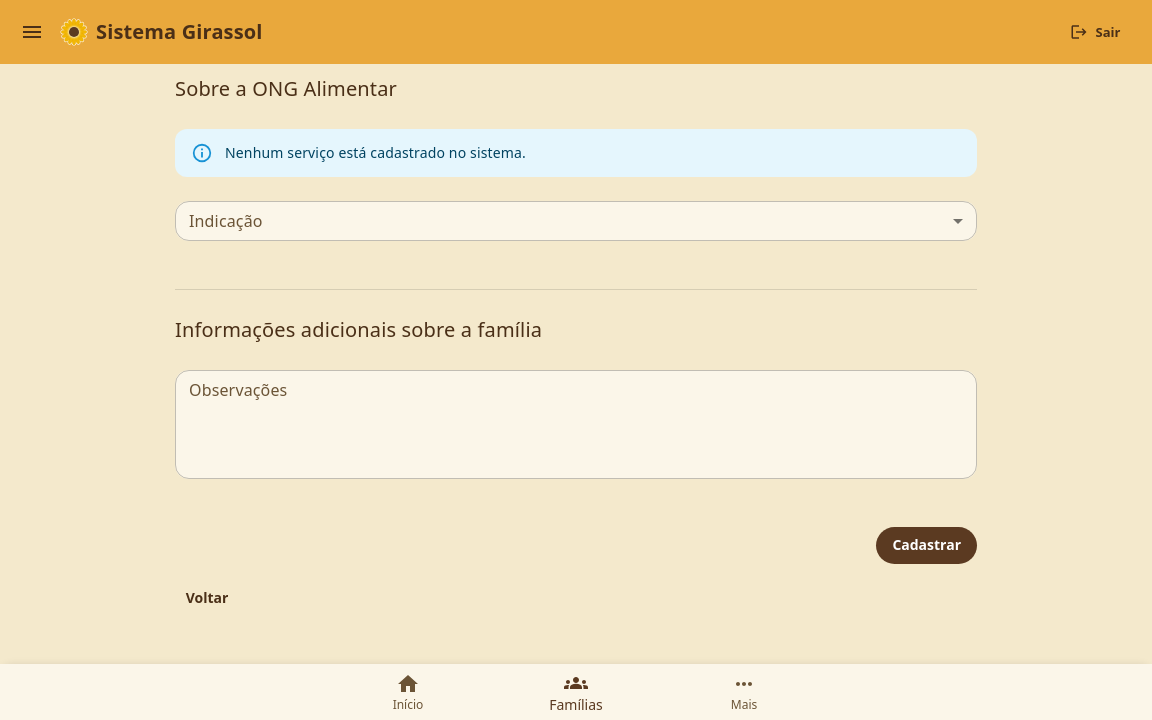
Test: CRUD de família ponta-a-ponta (#51) › cria, lê, atualiza e exclui uma família pela UI real
Earlier steps of the test are not shown.
(page scrolled)
Click the button "Cadastrar".
click(927, 545)  # box [876,527,977,564]
(page scrolled)
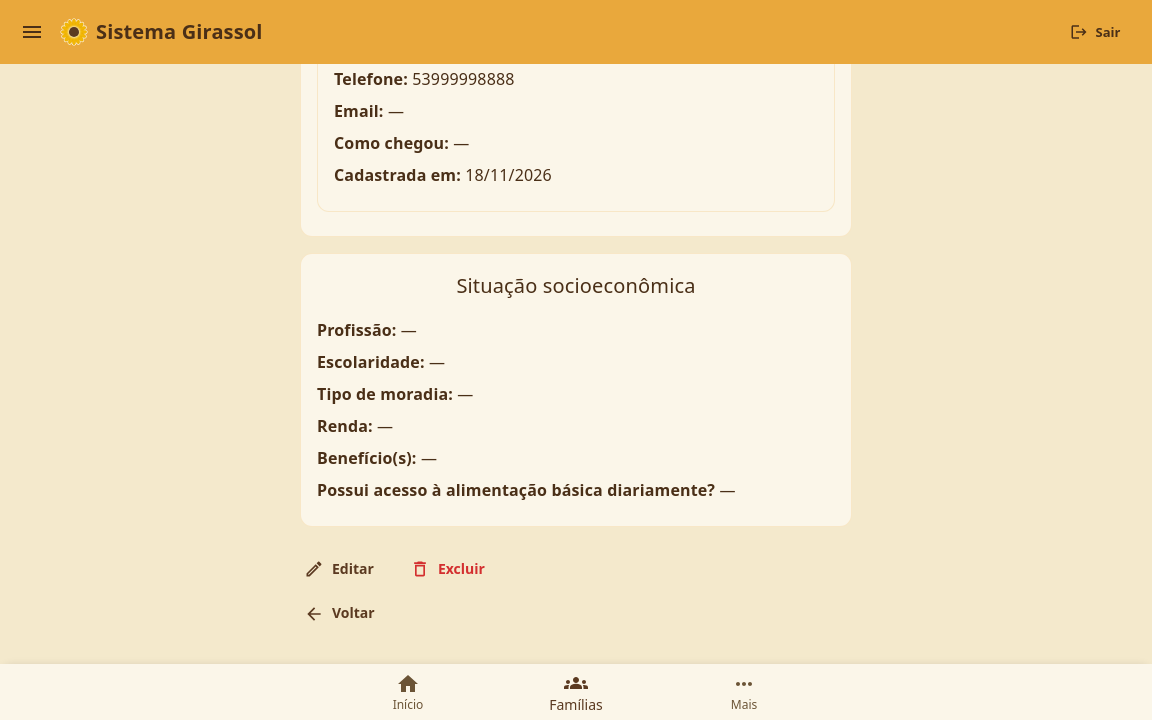
expect the text "Telefone: 53999998888" is shown: met, box [334,68,515,90]
Click the button "Editar".
click(341, 569)  # box [300,551,382,588]
(page scrolled)
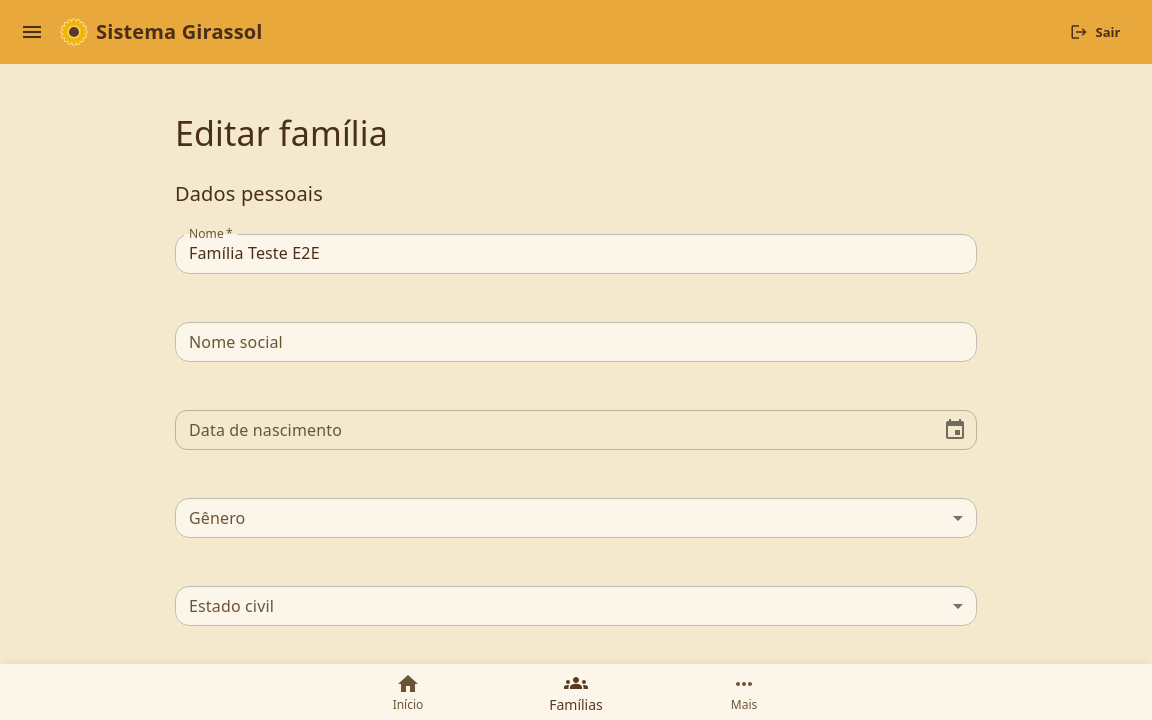
expect the heading "Editar família" is shown: met, box [175,110,388,156]
expect the field showing "Família Teste E2E" is shown: met
Replace the text in the field labelled "Nome" with "Família Teste E2E Atualizada" at (576, 254), box [175,234,977,274]
(page scrolled)
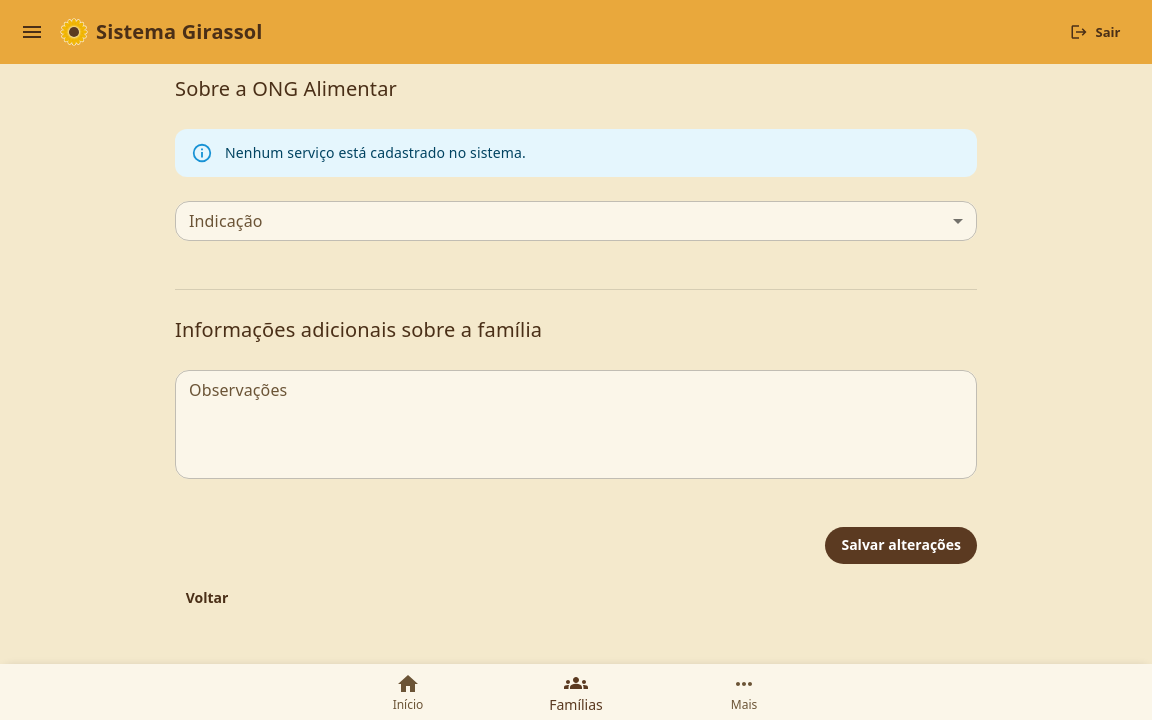
Click the button "Salvar alterações".
click(901, 545)  # box [825,527,977,564]
(page scrolled)
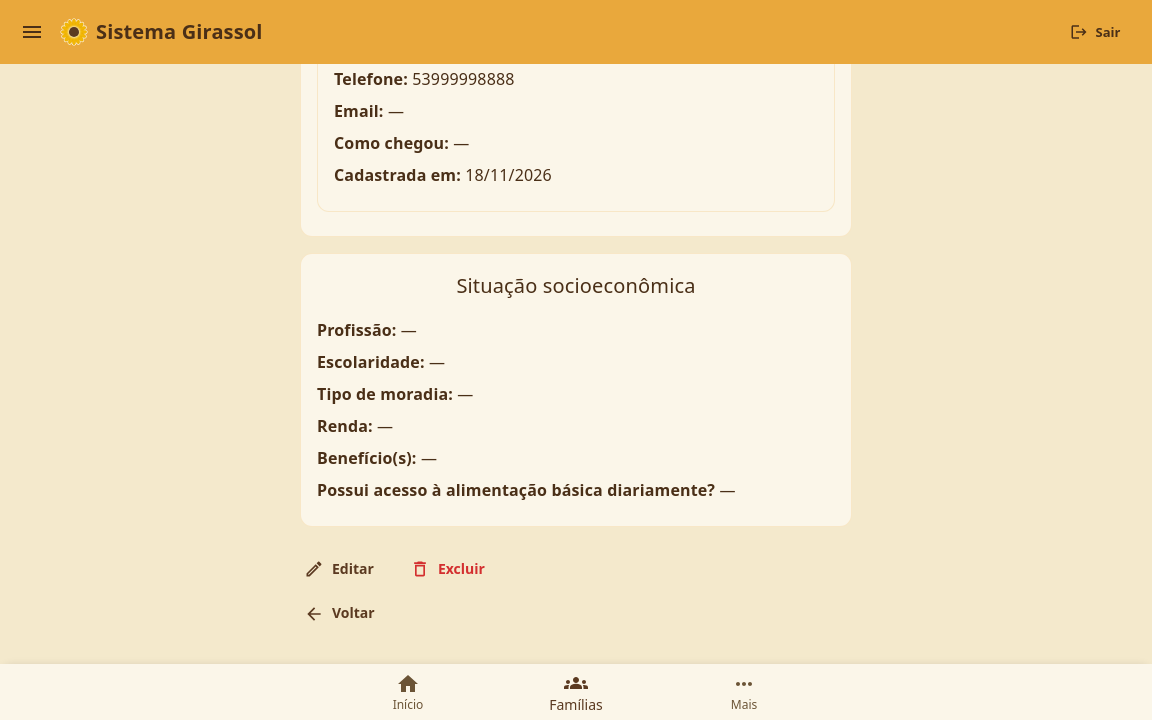
Click the button "Excluir".
click(449, 569)  # box [406,551,493,588]
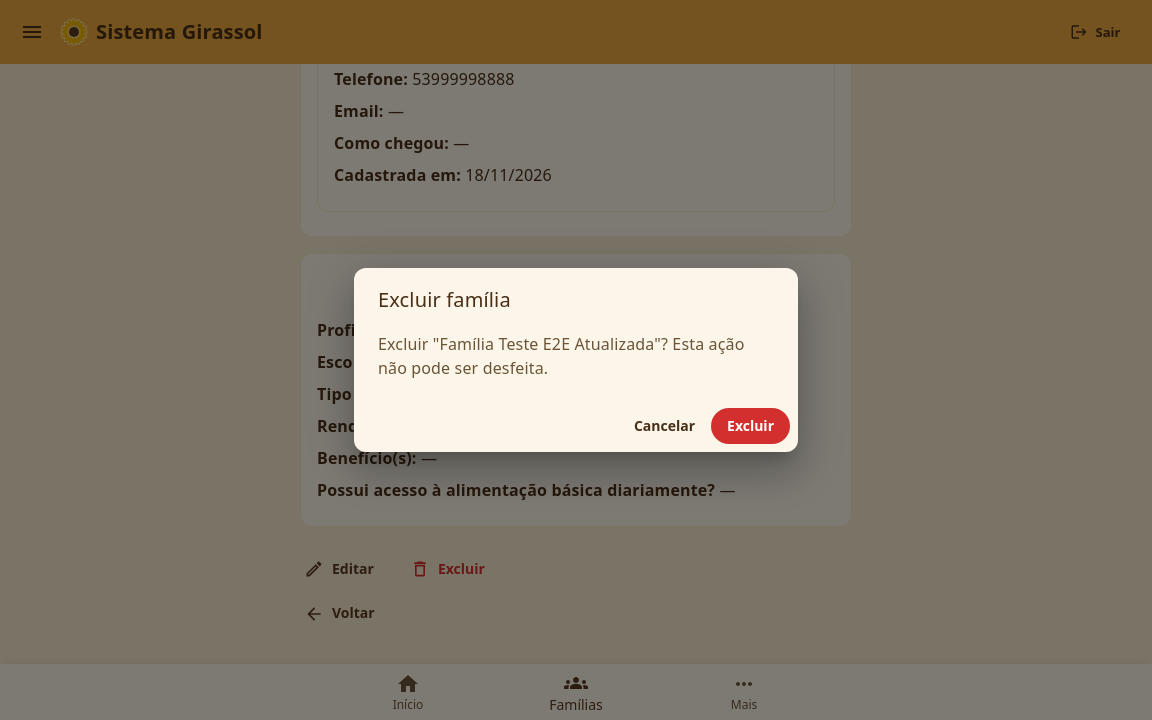
Click the button "Excluir".
click(750, 426)  # box [711,408,790,444]
(page scrolled)
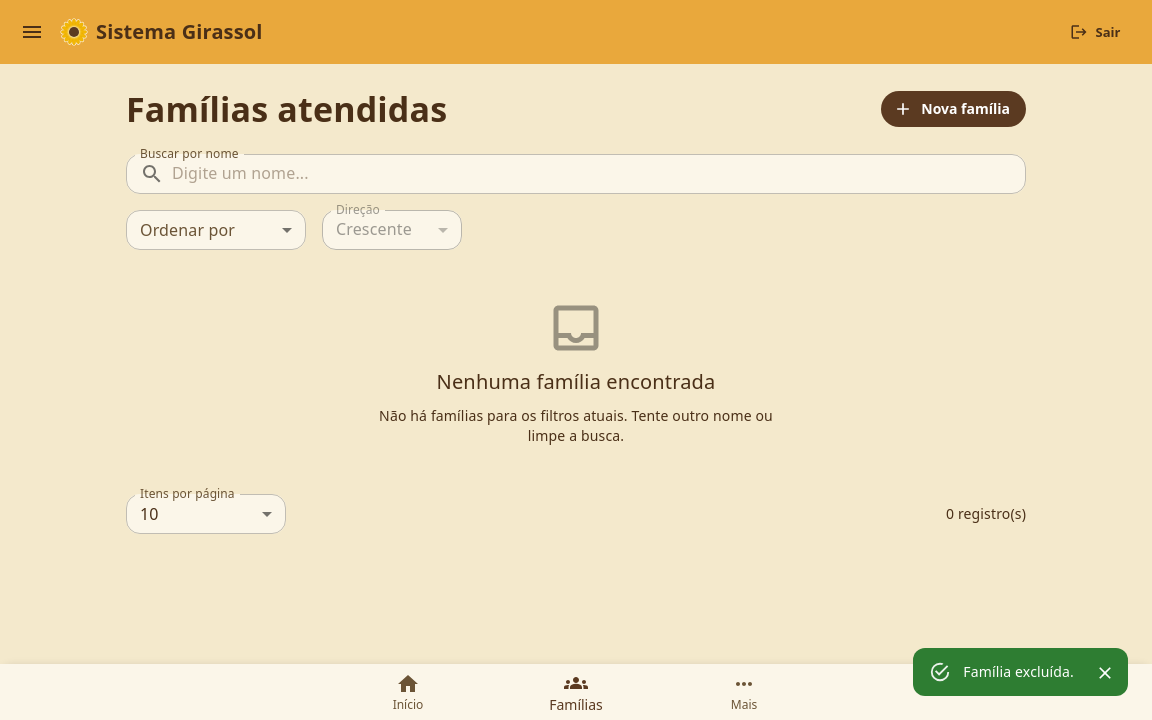
expect the heading "Nenhuma família encontrada" is shown: met, box [437,366,715,398]
